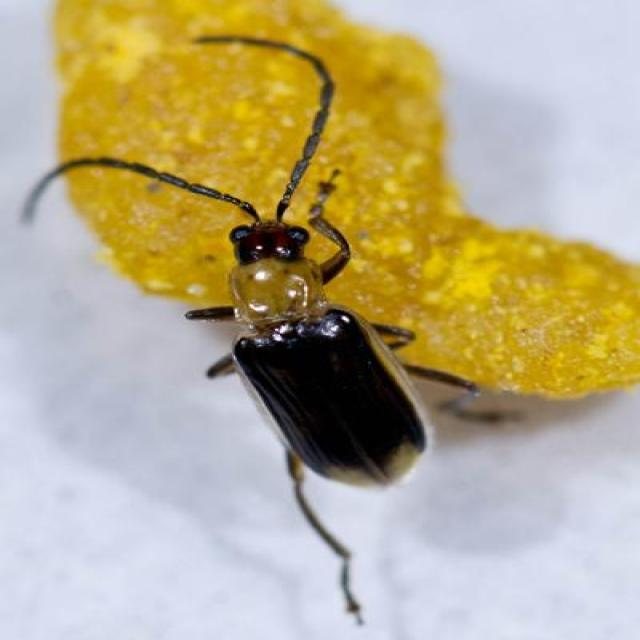trips: (24, 33, 524, 626)
